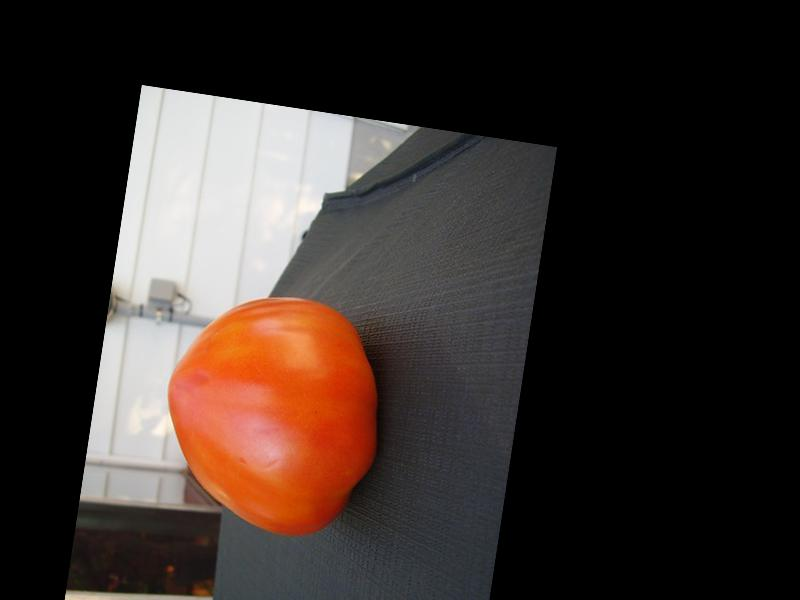Tomato: (147, 281, 394, 546)
